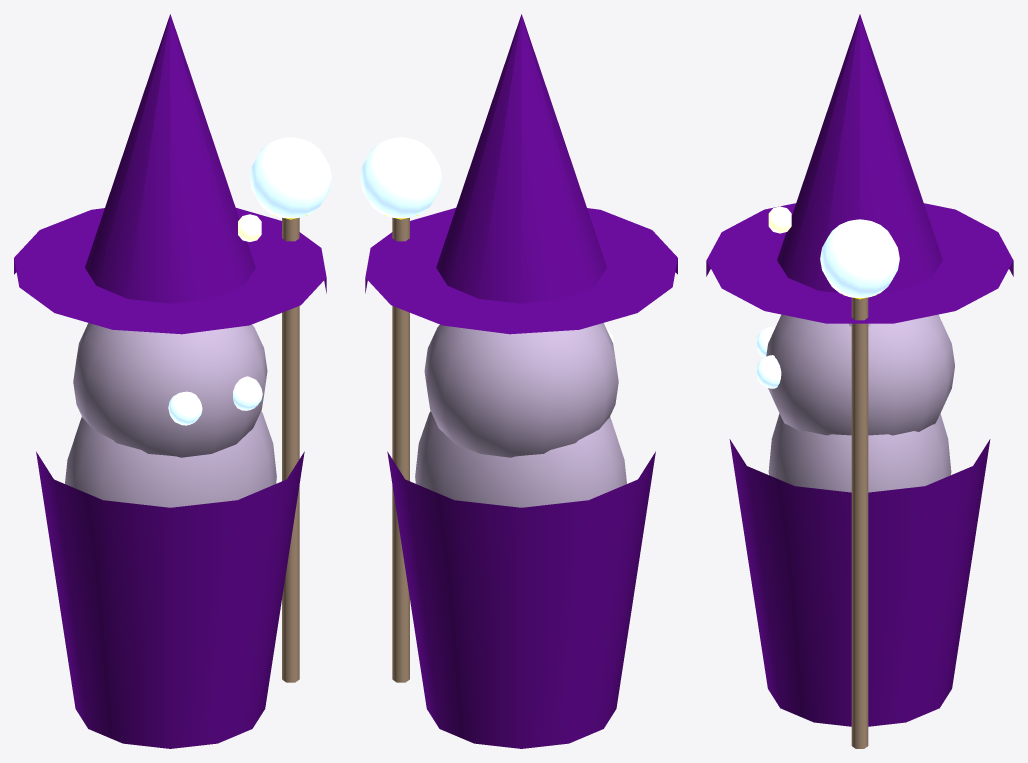
Rendered from cat-wizard.glb.
The picture shows the model from 3 angles, left to right: view 1: azimuth 30°, elevation 25°; view 2: azimuth 150°, elevation 25°; view 3: azimuth 270°, elevation 25°; orthographic projection. The views are drawn at different scales.
Visible parts, largest first — view 1: robe, hat-cone, head, hat-brim, body, staff-pole, staff-orb, eye-l, eye-r, hat-star; view 2: robe, hat-cone, head, hat-brim, body, staff-pole, staff-orb; view 3: robe, hat-cone, head, hat-brim, body, staff-pole, staff-orb, eye-r, hat-star.
Part boxes in pixels (x1,y1,x2,y2): robe: (36, 451, 304, 748); hat-cone: (85, 14, 255, 303); head: (73, 323, 267, 457); hat-brim: (14, 208, 326, 334); body: (65, 411, 276, 507); staff-pole: (282, 217, 299, 682); staff-orb: (249, 137, 331, 218); eye-l: (168, 391, 202, 425); eye-r: (233, 376, 262, 410); hat-star: (238, 214, 261, 241); robe: (387, 451, 655, 748); hat-cone: (436, 14, 606, 303); head: (424, 323, 618, 457); hat-brim: (365, 208, 677, 334); body: (415, 411, 626, 507); staff-pole: (392, 217, 409, 682); staff-orb: (360, 137, 442, 218); robe: (729, 439, 990, 726); hat-cone: (777, 14, 942, 292); head: (766, 314, 954, 435); hat-brim: (706, 203, 1013, 323); body: (768, 413, 951, 492); staff-pole: (851, 297, 868, 748); staff-orb: (820, 219, 899, 298); eye-r: (756, 355, 781, 388); hat-star: (768, 206, 791, 233).
Bounding box in the file's own units: 2.11 × 4.85 × 2.
